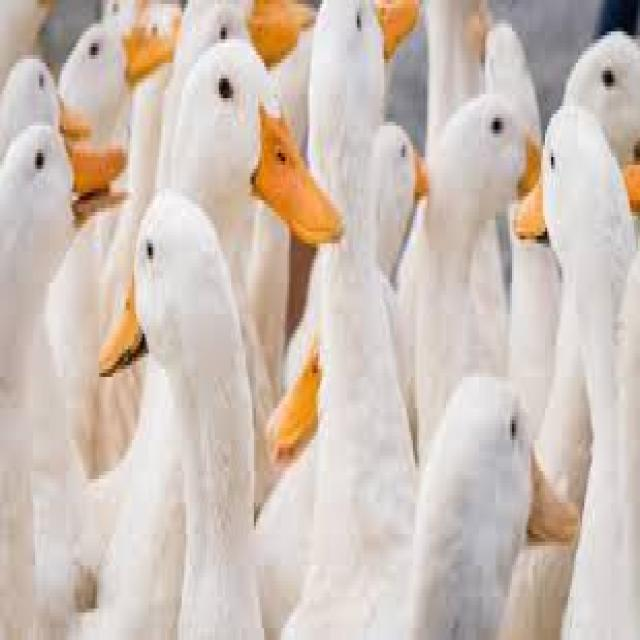Duck: (93, 185, 269, 640), (510, 95, 640, 640), (403, 354, 581, 640), (130, 34, 348, 259)
